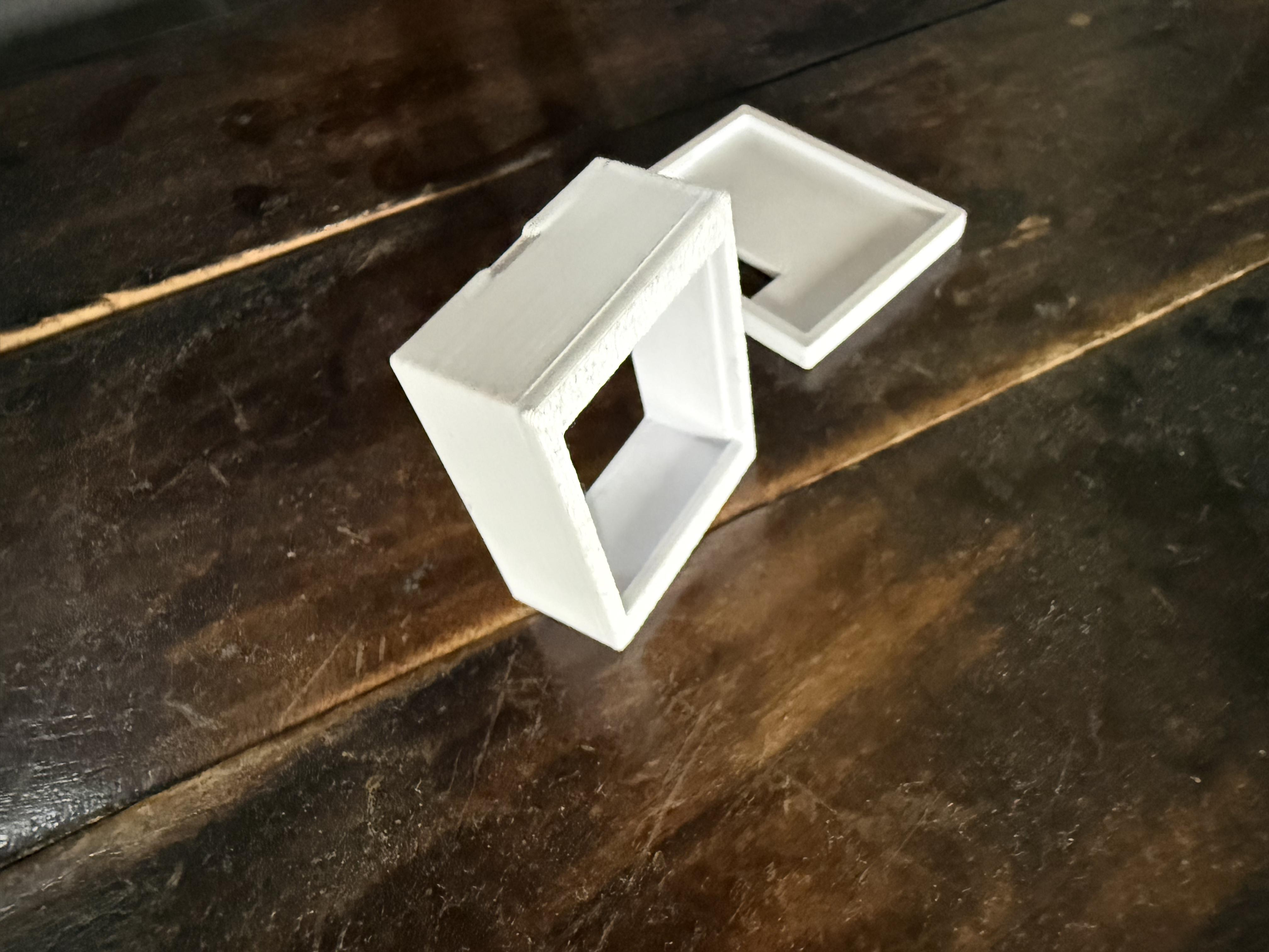enclosure: (389, 156, 758, 652), (636, 91, 994, 379)
